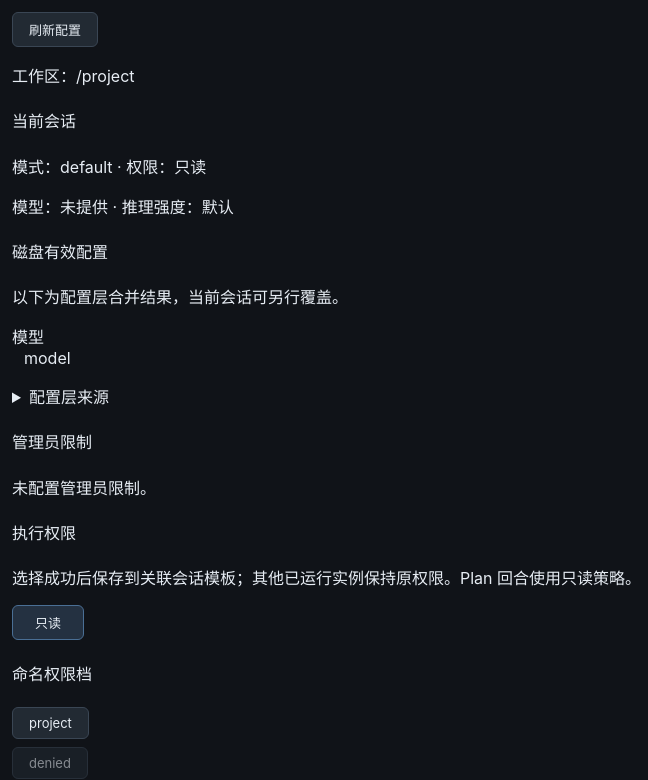
Test: configuration panel shared by desktop and mobile › shows partial results, disabled profiles and refreshes after selection
Check: the text "未配置管理员限制。" is shown, box [12,478,156,498]
Check: the button "denied" is disabled, box [12,747,88,779]
Click the button "project" at (50, 723), box [12,707,89,739]
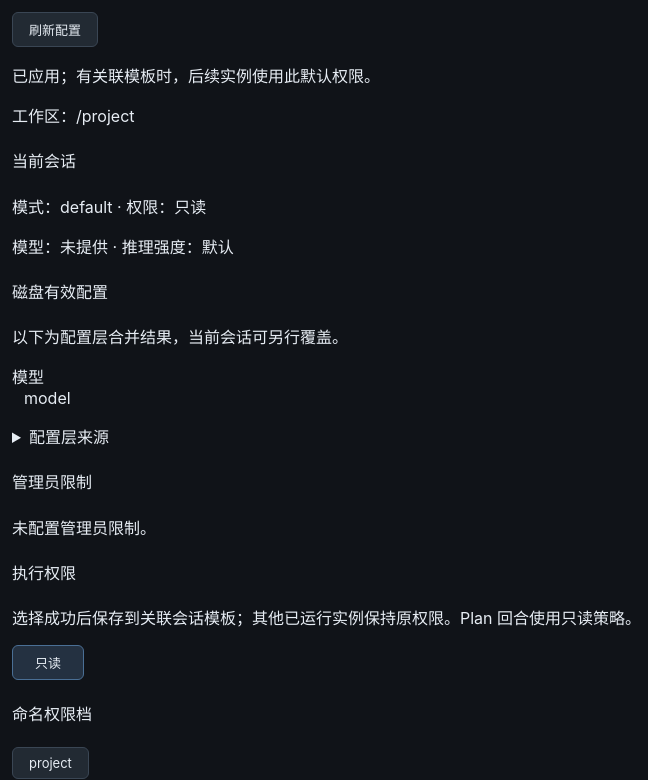
Check: the message shows "已应用", box [12,66,380,86]
